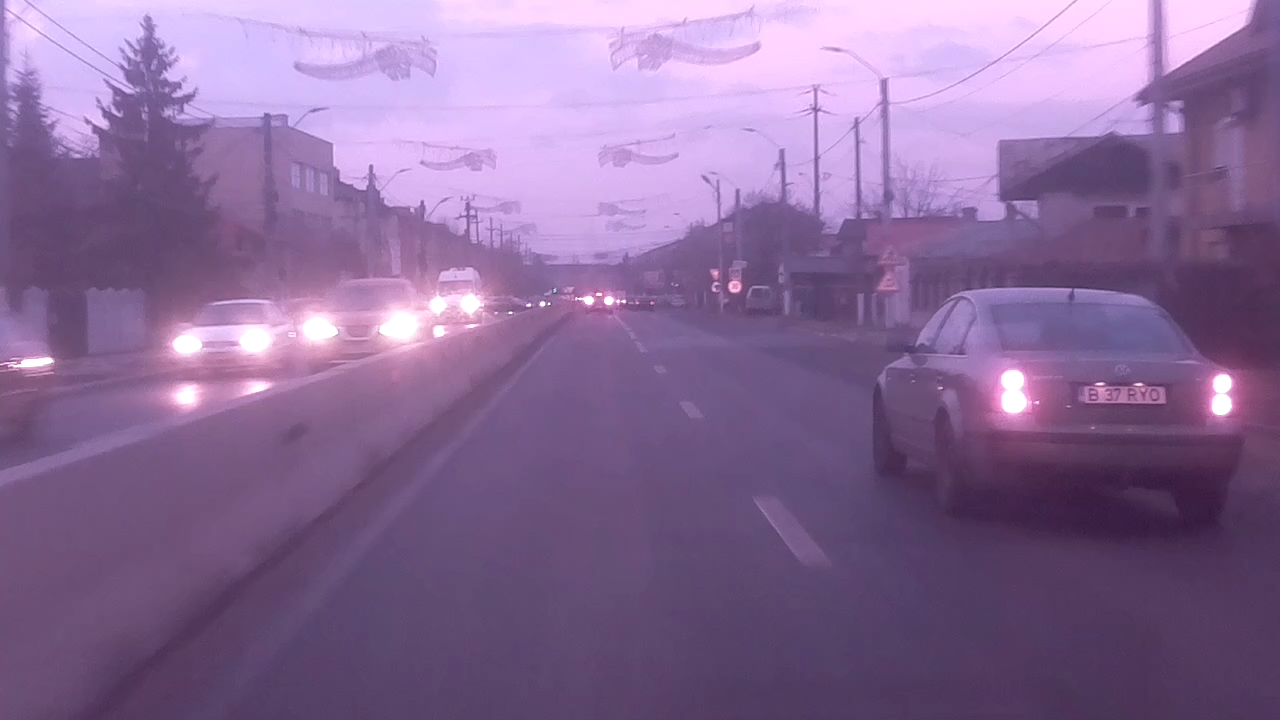license-plate: (1071, 381, 1171, 407)
